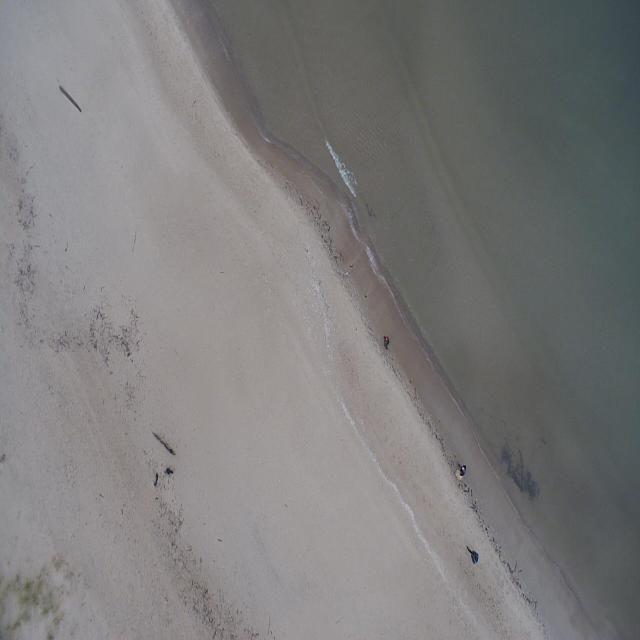p3rson: (467, 546, 479, 564), (458, 462, 466, 476), (384, 336, 390, 350)
